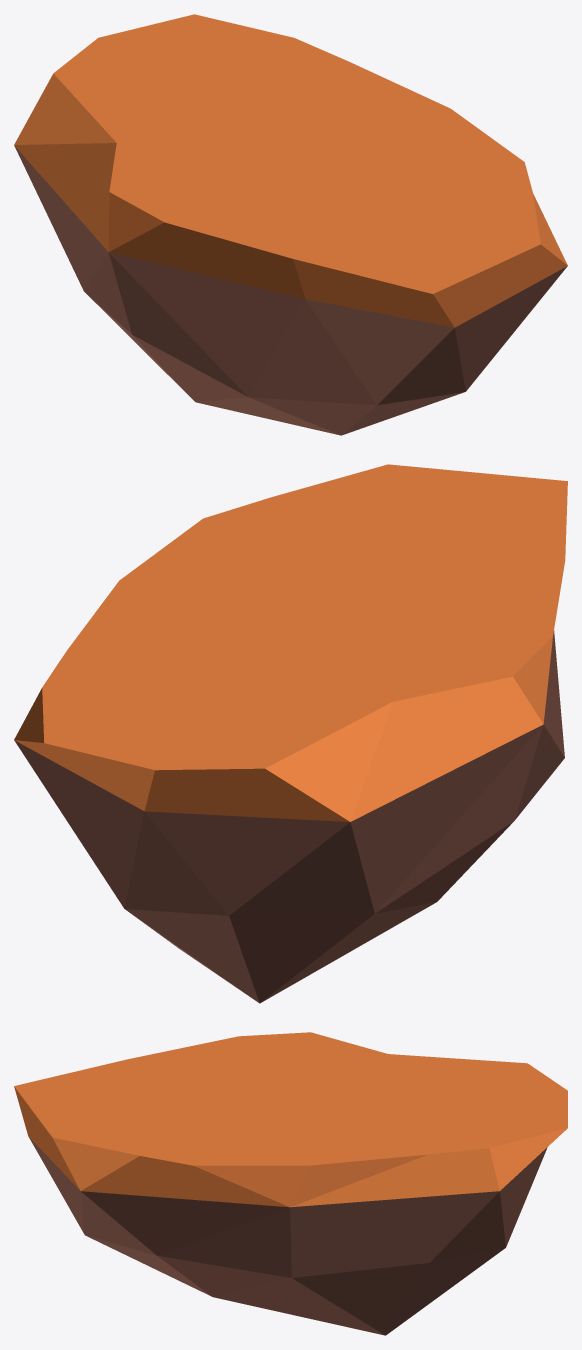
Rendered from 01_02Island_Orange.fbx.
3 renders of one model, top to bottom at view 1: azimuth 30°, elevation 25°; view 2: azimuth 150°, elevation 25°; view 3: azimuth 270°, elevation 25°, orthographic. The views are drawn at different scales.
Visible parts, largest first — view 1: Icosphere.022; view 2: Icosphere.022; view 3: Icosphere.022.
Part boxes in pixels (x1,y1,x2,y2): Icosphere.022: (14, 14, 567, 435); Icosphere.022: (14, 464, 567, 1003); Icosphere.022: (14, 1032, 567, 1335).
Bounding box in the file's own units: 171 × 117 × 281.
